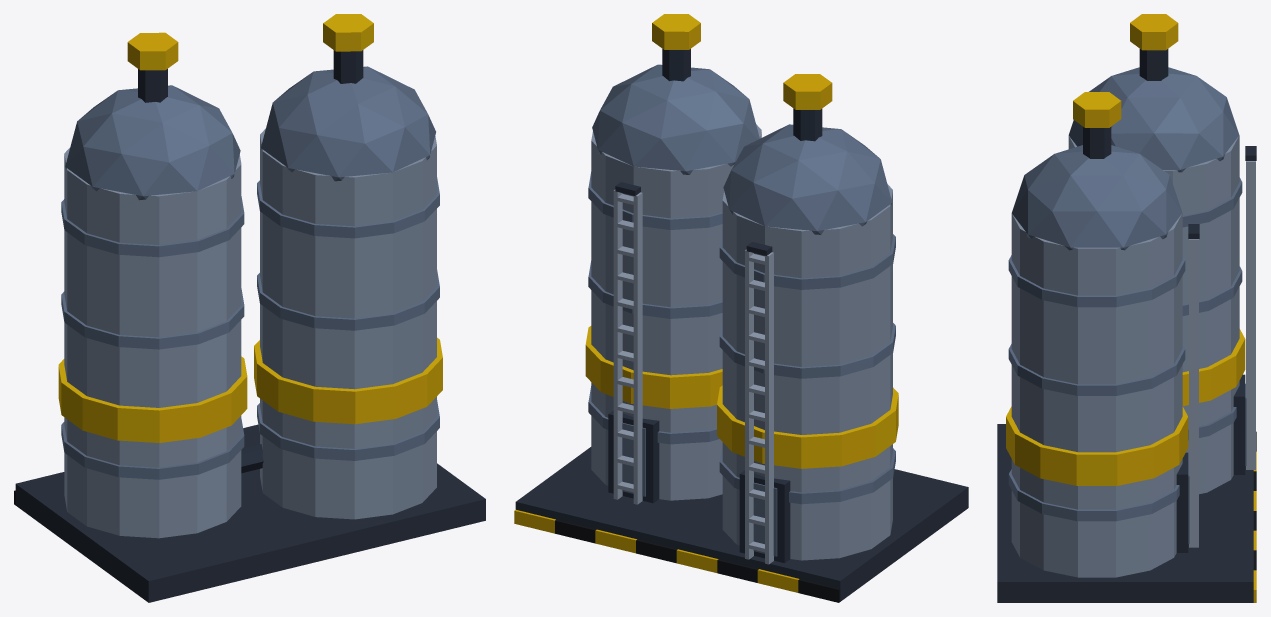
File: Decor_MechaHangar_Silos.fbx
The picture shows the model from 3 angles, left to right: view 1: azimuth 30°, elevation 25°; view 2: azimuth 150°, elevation 25°; view 3: azimuth 270°, elevation 25°; orthographic projection. The views are drawn at different scales.
Parts seen in each view (by area): view 1: Silos_Body; view 2: Silos_Body; view 3: Silos_Body.
Boxes of the visible parts, x1=… form: Silos_Body: x1=14, y1=14, x2=485, y2=602; Silos_Body: x1=514, y1=14, x2=968, y2=602; Silos_Body: x1=997, y1=14, x2=1256, y2=602.
Bounding box in the file's own units: 13 × 17.7 × 9.
